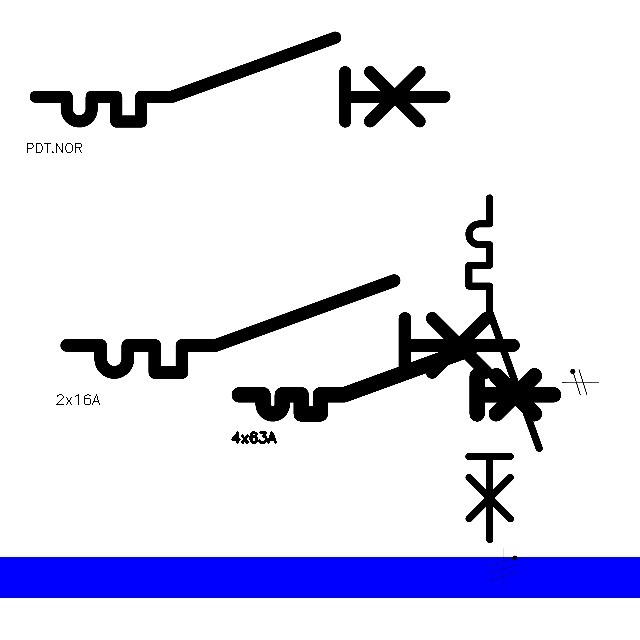interruptor_termomagnetico: (55, 269, 525, 384), (25, 27, 455, 132), (460, 189, 548, 548), (231, 341, 562, 422)
